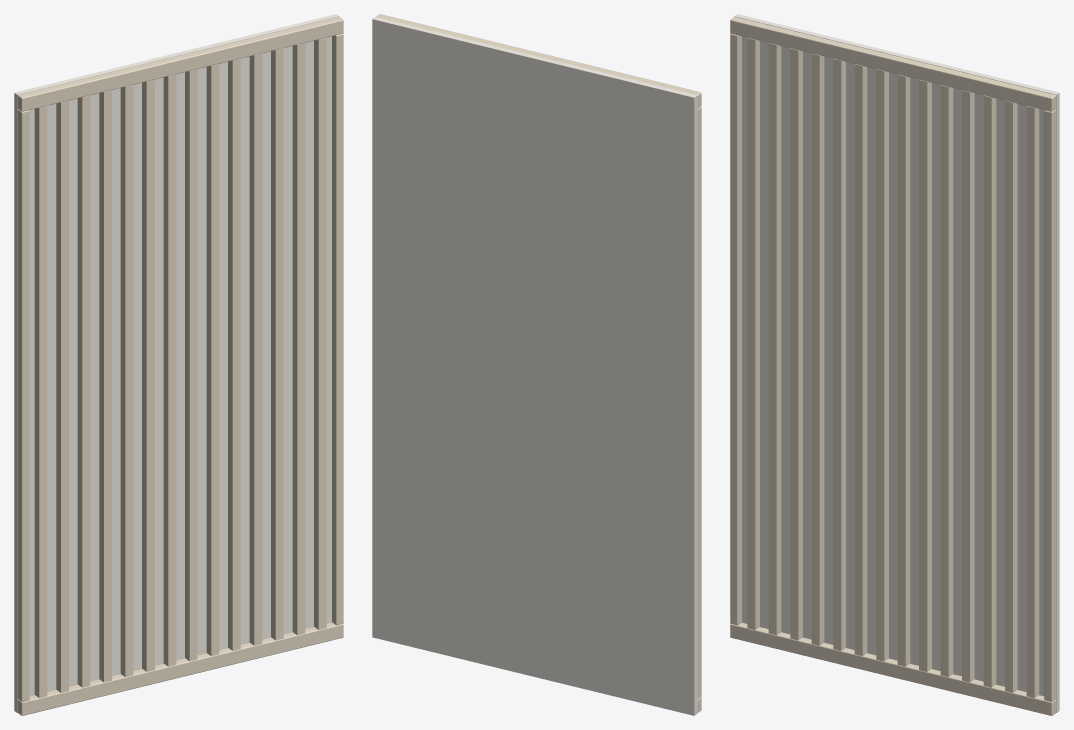
The model's file is sg_lattice_panel.glb.
The picture shows the model from 3 angles, left to right: view 1: azimuth 30°, elevation 25°; view 2: azimuth 150°, elevation 25°; view 3: azimuth 330°, elevation 25°; orthographic projection.
Parts seen in each view (by area): view 1: lattice, backing, frame; view 2: backing, frame; view 3: lattice, backing, frame.
Boxes of the visible parts, x1,y1,x2,y2 form: lattice: [34, 37, 326, 697]; backing: [14, 14, 339, 712]; frame: [17, 17, 343, 715]; backing: [372, 17, 697, 715]; frame: [376, 14, 701, 712]; lattice: [747, 37, 1039, 697]; backing: [734, 14, 1059, 712]; frame: [730, 17, 1056, 715].
Bounding box in the file's own units: 1.2 × 2.2 × 0.05.
